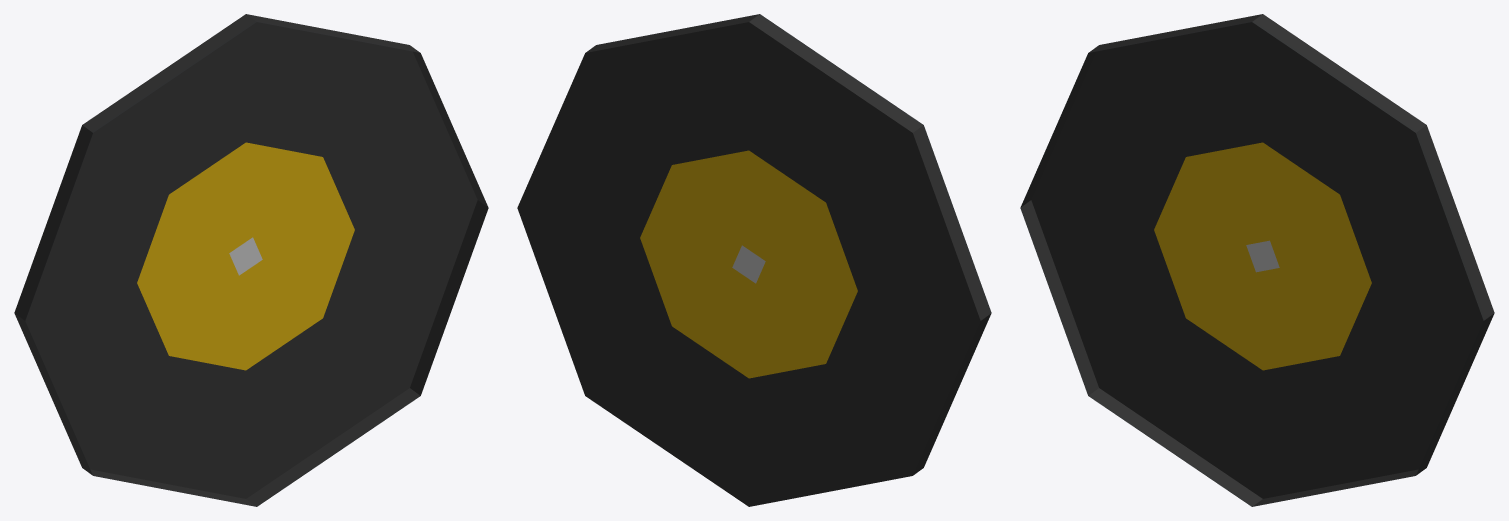
The model's file is disc01.fbx.
The picture shows the model from 3 angles, left to right: view 1: azimuth 30°, elevation 25°; view 2: azimuth 150°, elevation 25°; view 3: azimuth 330°, elevation 25°; orthographic projection.
Visible parts, largest first — view 1: disc01; view 2: disc01; view 3: disc01.
Boxes of the visible parts, left/top/right/bottom form: disc01: left=14, top=14, right=488, bottom=506; disc01: left=517, top=14, right=991, bottom=506; disc01: left=1020, top=14, right=1494, bottom=506.
Size of the model in its own units: 200 by 200 by 8.19.
